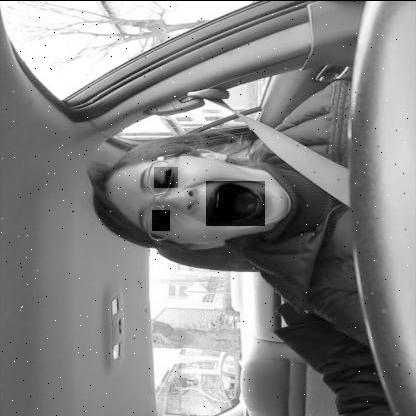seatbelt: (81, 75, 416, 256)
